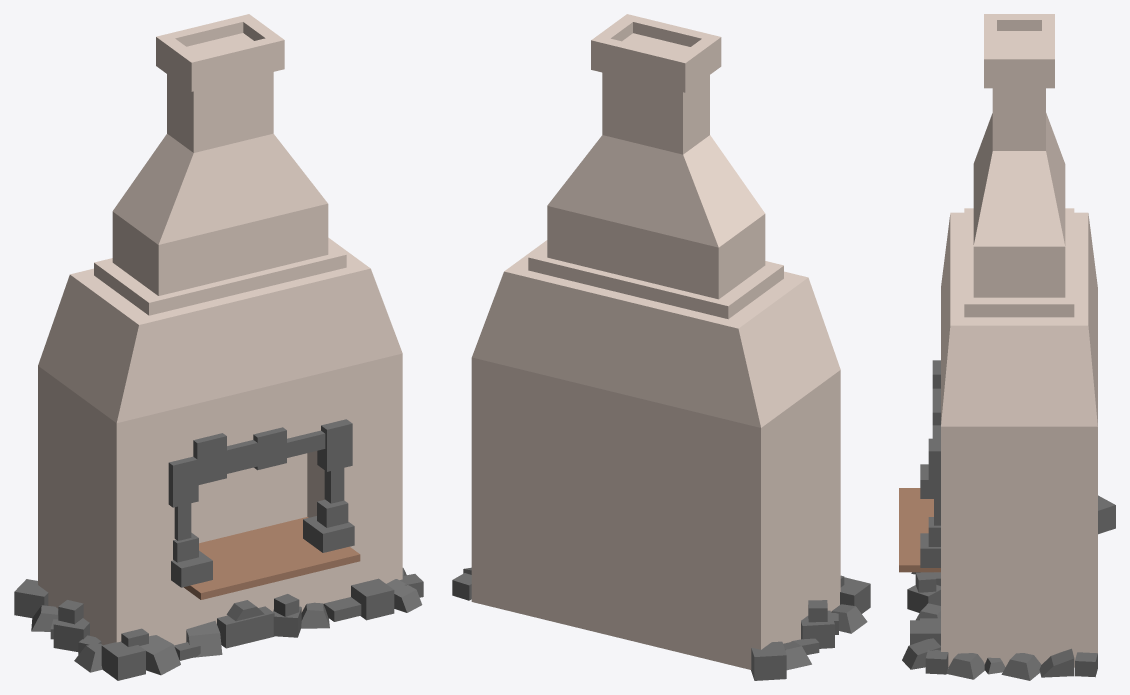
The model's file is Furnace.fbx.
The picture shows the model from 3 angles, left to right: view 1: azimuth 30°, elevation 25°; view 2: azimuth 150°, elevation 25°; view 3: azimuth 270°, elevation 25°; orthographic projection.
Parts seen in each view (by area): view 1: Furnace_Geo; view 2: Furnace_Geo; view 3: Furnace_Geo.
Part boxes in pixels (<box>): Furnace_Geo: <box>14,14,423,680</box>; Furnace_Geo: <box>452,14,870,680</box>; Furnace_Geo: <box>899,14,1115,680</box>.
Size of the model in its own units: 78.77 by 125 by 43.64.
